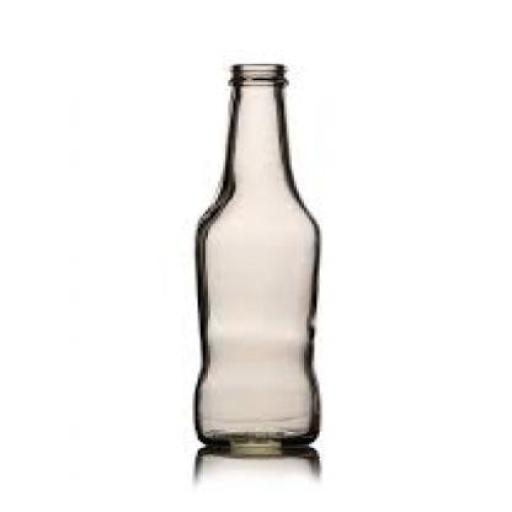glass: (192, 62, 320, 444)
